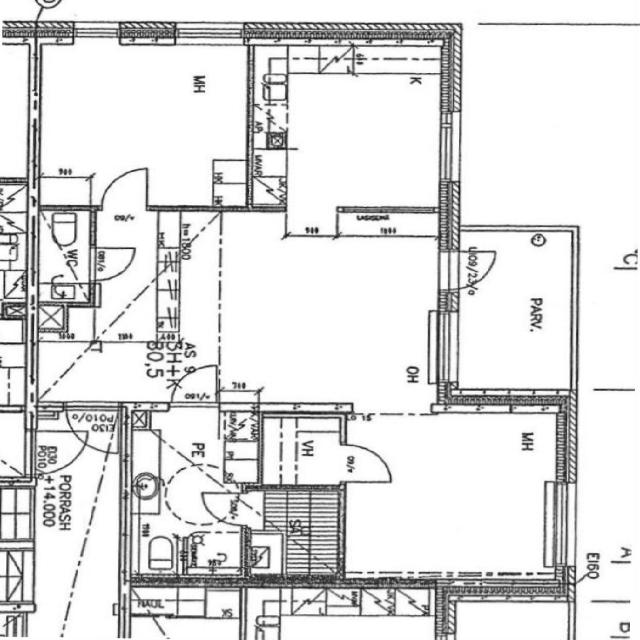door: (160, 358, 224, 410), (337, 437, 400, 489), (95, 164, 157, 212), (61, 400, 120, 450), (198, 489, 254, 530), (84, 243, 138, 285), (456, 249, 500, 287), (146, 613, 175, 638)
window: (542, 475, 583, 572), (426, 307, 464, 390), (432, 107, 467, 187), (172, 19, 245, 46), (66, 18, 126, 46)
zone: (342, 406, 565, 589), (34, 39, 258, 205), (253, 56, 447, 224), (446, 226, 576, 404), (126, 413, 254, 566), (240, 484, 346, 581), (248, 592, 434, 640), (127, 583, 246, 640), (258, 412, 347, 488), (32, 203, 95, 304), (436, 594, 572, 640), (0, 39, 42, 185), (0, 180, 30, 316), (572, 599, 640, 638), (169, 20, 247, 48)
